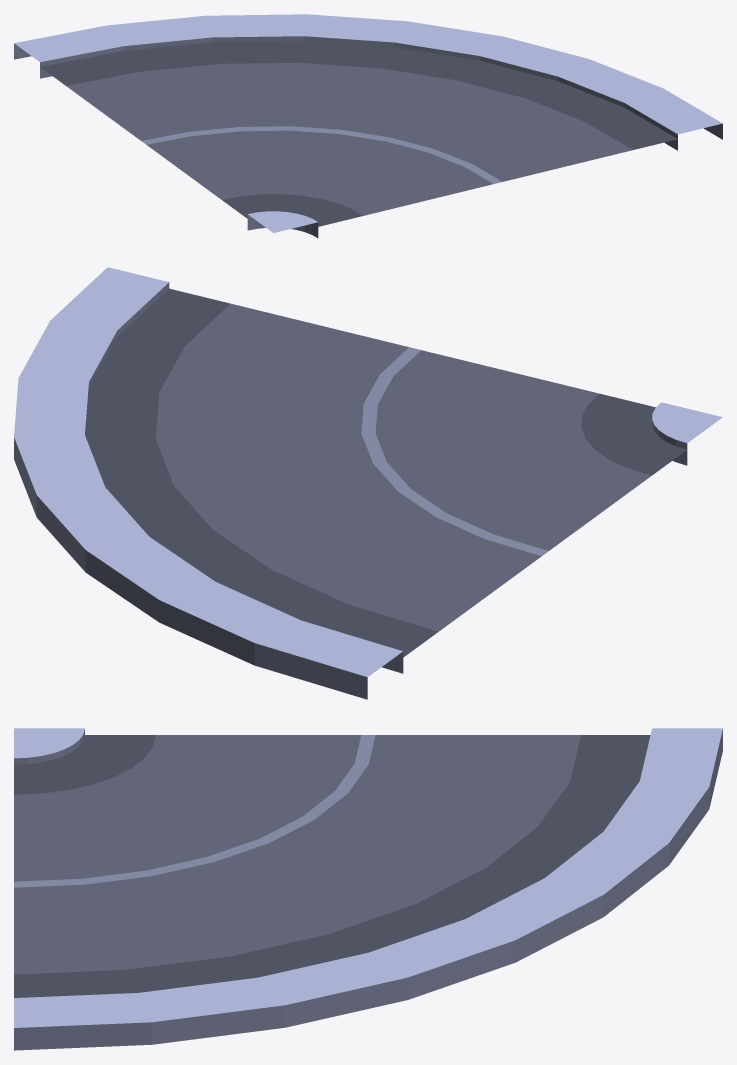
File: road-bend.glb
The picture shows the model from 3 angles, top to bottom: view 1: azimuth 30°, elevation 25°; view 2: azimuth 150°, elevation 25°; view 3: azimuth 270°, elevation 25°; orthographic projection. The views are drawn at different scales.
Visible parts, largest first — view 1: road-bend; view 2: road-bend; view 3: road-bend.
Part boxes in pixels (x1,y1,x2,y2): road-bend: (14, 14, 722, 238); road-bend: (14, 267, 722, 699); road-bend: (14, 728, 722, 1050).
Size of the model in its own units: 1 by 0.035 by 1.
Materials: 1 (1 with a texture image).
